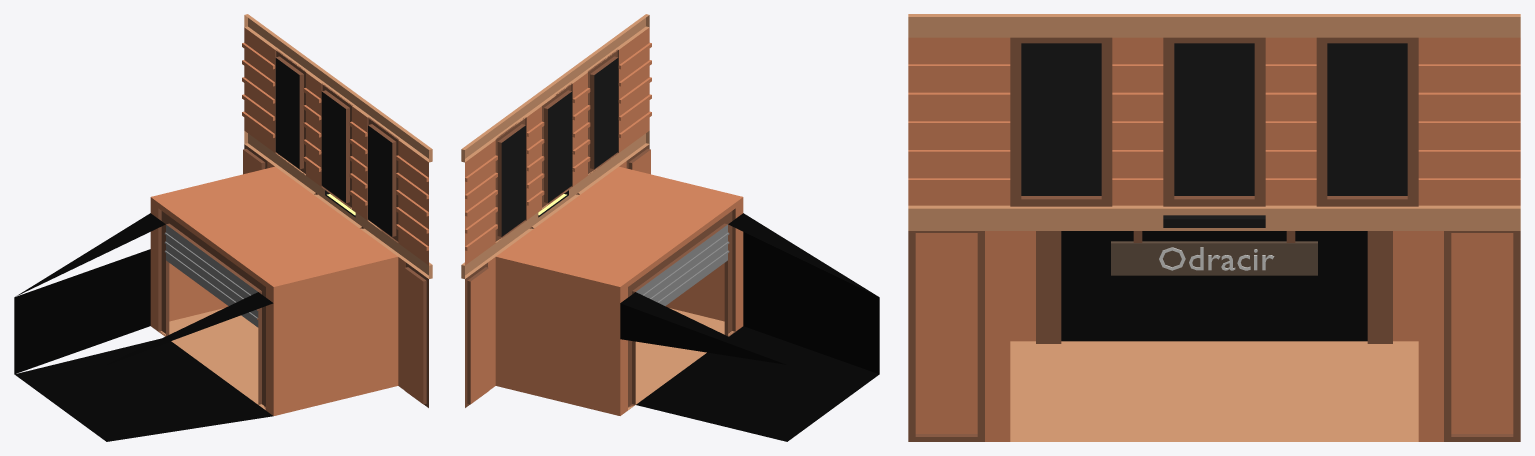
The model's file is House7.fbx.
3 views of the same model, side by side, from view 1: azimuth 30°, elevation 25°; view 2: azimuth 150°, elevation 25°; view 3: azimuth 270°, elevation 25° (orthographic). The views are drawn at different scales.
Parts seen in each view (by area): view 1: Text; view 2: Text; view 3: Text.
Part boxes in pixels (x1=…): Text: x1=14, y1=14, x2=432, y2=441; Text: x1=461, y1=14, x2=879, y2=441; Text: x1=908, y1=14, x2=1520, y2=441.
Size of the model in its own units: 1247 by 1080 by 1400.
